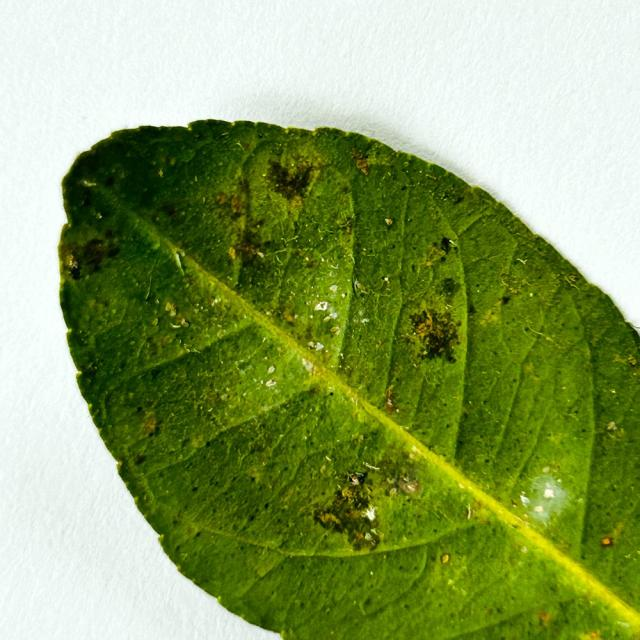Bacterial_Blight: (490, 250, 578, 336), (314, 470, 382, 547), (416, 315, 468, 368), (369, 456, 422, 502), (265, 158, 316, 203), (301, 220, 353, 258), (491, 263, 539, 303), (291, 312, 331, 352), (354, 266, 395, 300), (247, 357, 282, 392), (79, 237, 113, 273), (197, 381, 235, 413), (226, 176, 255, 216), (419, 241, 451, 270), (230, 236, 264, 263), (474, 300, 505, 329), (164, 302, 188, 328), (414, 316, 436, 340), (349, 148, 370, 173), (600, 524, 623, 546), (604, 419, 627, 441), (383, 386, 399, 415), (437, 276, 458, 297), (437, 236, 458, 256), (463, 498, 482, 520), (315, 510, 341, 526), (142, 413, 158, 437), (67, 257, 83, 280), (562, 274, 580, 290), (346, 471, 365, 485), (247, 466, 263, 481), (282, 310, 297, 325), (302, 256, 318, 270), (230, 197, 244, 212), (163, 203, 178, 217), (341, 487, 357, 500), (134, 452, 148, 465), (104, 175, 117, 188), (165, 302, 176, 316), (216, 193, 228, 205), (314, 301, 328, 311), (539, 612, 551, 623), (472, 499, 483, 511), (626, 355, 637, 366), (343, 223, 353, 235), (228, 247, 237, 260), (81, 179, 95, 187), (501, 295, 512, 305), (601, 537, 613, 546), (588, 629, 600, 638), (440, 554, 450, 564), (69, 260, 79, 270), (426, 174, 438, 181), (551, 463, 560, 472), (607, 421, 616, 430), (217, 330, 226, 339), (329, 284, 338, 293), (516, 258, 527, 265), (510, 498, 518, 507), (235, 142, 244, 150), (267, 365, 275, 374), (157, 533, 164, 543), (385, 218, 393, 226), (116, 460, 123, 469), (191, 485, 199, 492), (151, 318, 158, 326), (158, 169, 164, 178), (320, 465, 326, 474), (136, 406, 144, 412), (484, 458, 490, 464), (96, 213, 102, 219), (329, 391, 334, 396)
Lemon: (56, 119, 639, 639)
